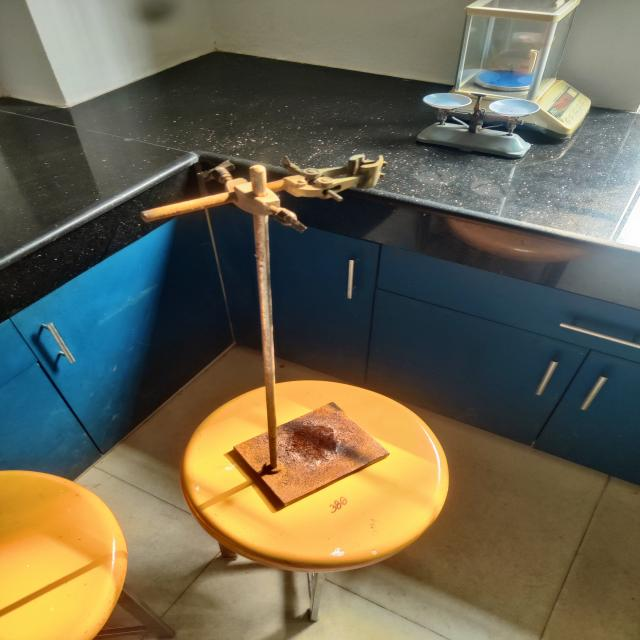Burette_Stands: (134, 140, 406, 494)
